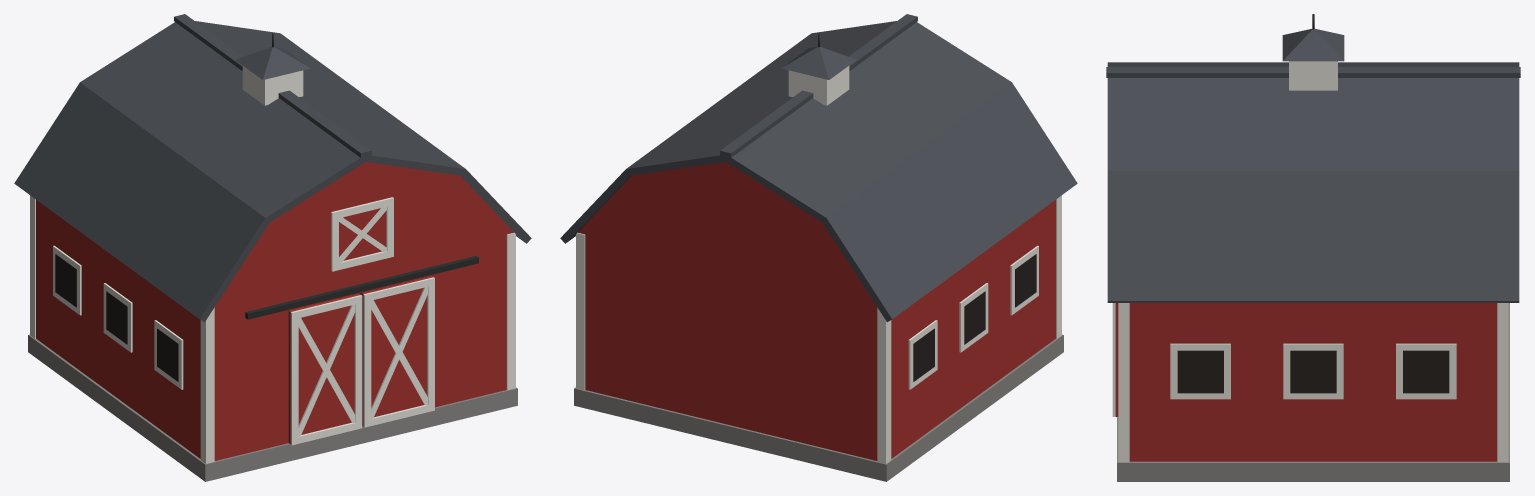
The model's file is barn.far.glb.
3 views of the same model, side by side, from view 1: azimuth 30°, elevation 25°; view 2: azimuth 150°, elevation 25°; view 3: azimuth 270°, elevation 25° (orthographic). The views are drawn at different scales.
Parts seen in each view (by area): view 1: barn_far; view 2: barn_far; view 3: barn_far.
Part boxes in pixels (x1,y1,x2,y2): barn_far: (14, 14, 531, 481); barn_far: (560, 14, 1077, 481); barn_far: (1106, 14, 1520, 481).
Bounding box in the file's own units: 6.04 × 6 × 5.88.
